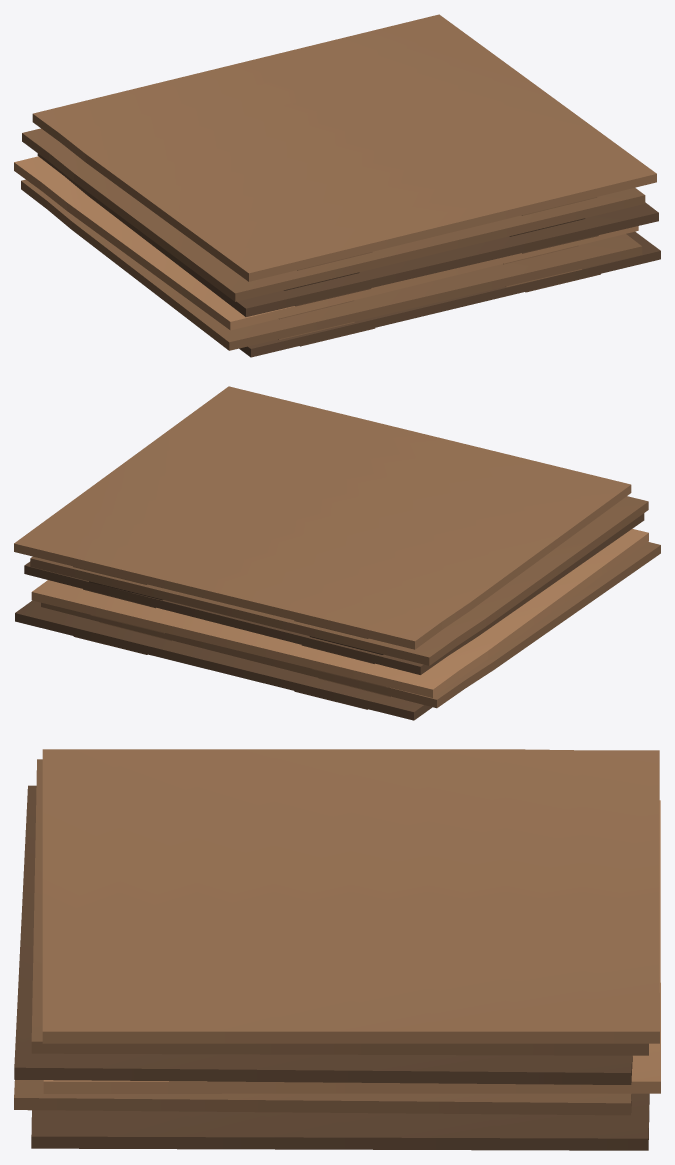
Rendered from Multiple Med Mid Crate Lids.fbx.
3 views of the same model, one above another, from view 1: azimuth 30°, elevation 25°; view 2: azimuth 150°, elevation 25°; view 3: azimuth 270°, elevation 25° (orthographic). The views are drawn at different scales.
Visible parts, largest first — view 1: Med Multiple Mid Crate Lids; view 2: Med Multiple Mid Crate Lids; view 3: Med Multiple Mid Crate Lids.
Part boxes in pixels (left/top/right/bottom): Med Multiple Mid Crate Lids: left=14, top=14, right=660, bottom=357; Med Multiple Mid Crate Lids: left=14, top=386, right=660, bottom=720; Med Multiple Mid Crate Lids: left=14, top=749, right=660, bottom=1150.
Bounding box in the file's own units: 43.18 × 201 × 222.
Materials: 1 (1 with a texture image).
